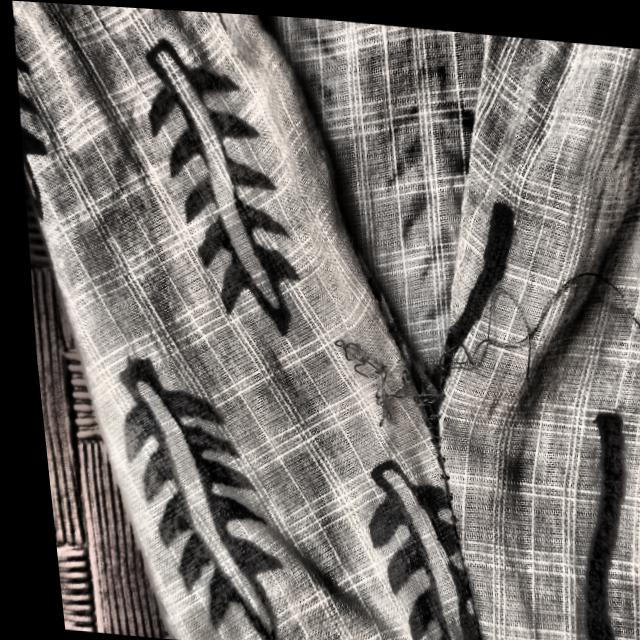Stitch: (289, 189, 640, 482)
